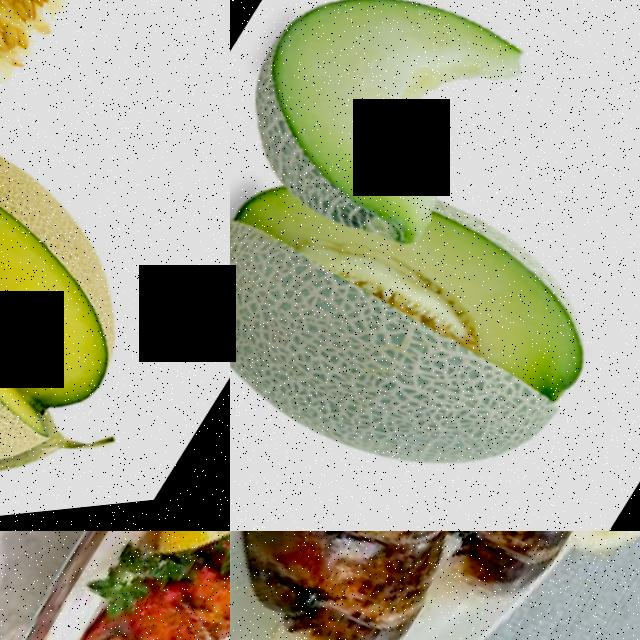lobster tails: (230, 531, 573, 638)
melon: (230, 145, 640, 531), (0, 127, 218, 531), (230, 0, 552, 273), (0, 118, 174, 531), (0, 0, 135, 260)
